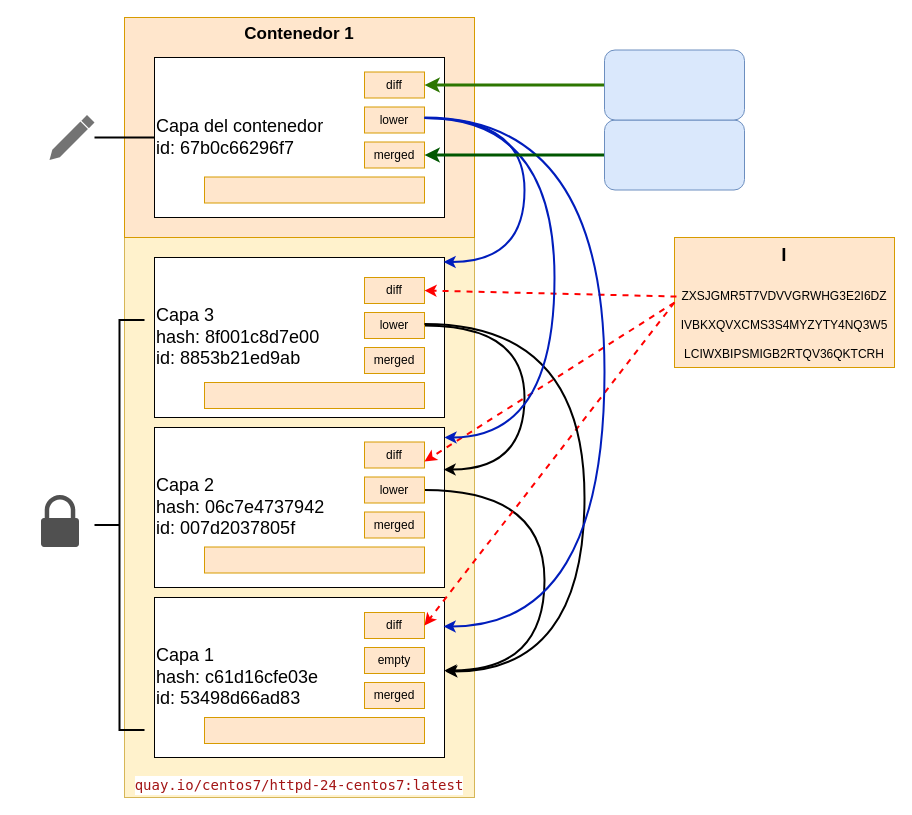
Image size: 912x815. Some labels were removed from this diagram. Each missing label, with the centre of its shape:
Capa de lectura y escritura: (x=71, y=137)
Capas de sólo lectura: (x=59, y=520)
Directorio donde se guardan las modificaciones del contenedor: (x=674, y=84)
Directorio donde se monta el monta el sistema de fichero superpuesto: (x=674, y=154)
link 2Z7WNHJFETJ4NWQ37ZJTK42CLN: (x=314, y=189)
link IVBKXQVXCMS3S4MYZYTY4NQ3W5: (x=314, y=559)
link LCIWXBIPSMIGB2RTQV36QKTCRH: (x=314, y=730)
link ZXSJGMR5T7VDVVGRWHG3E2I6DZ: (x=314, y=395)
